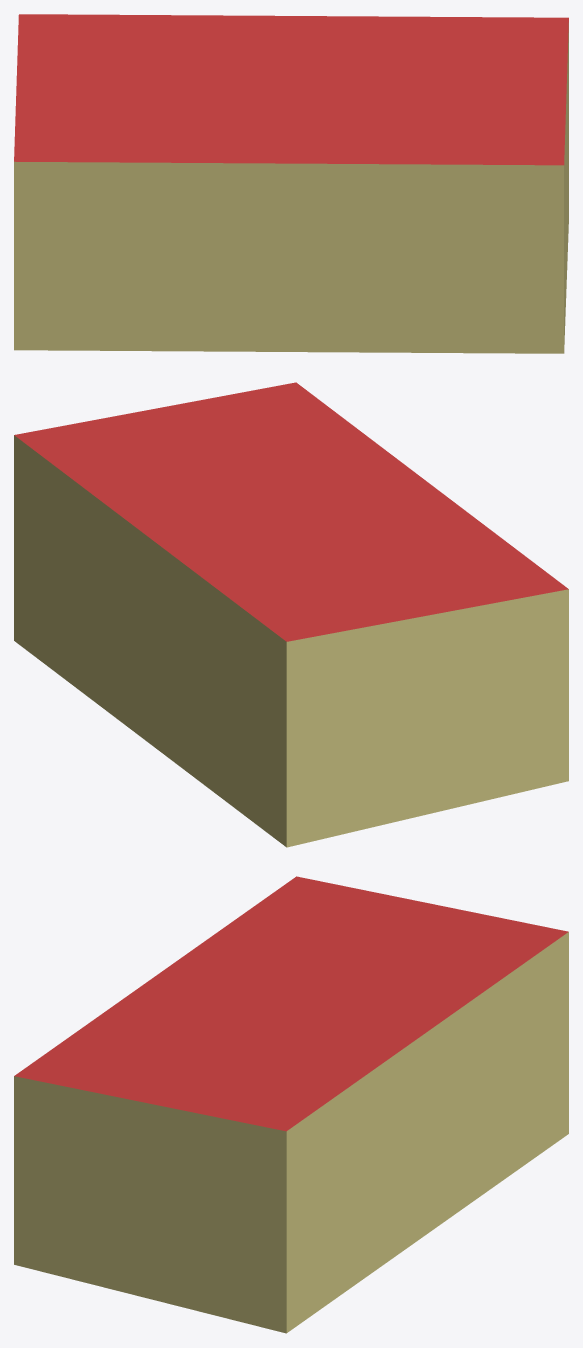
3 views of the same model, one above another, from view 1: azimuth 30°, elevation 25°; view 2: azimuth 150°, elevation 25°; view 3: azimuth 270°, elevation 25° (orthographic).
Parts seen in each view (by area): view 1: group_4, group_3; view 2: group_4, group_3; view 3: group_4, group_3.
Boxes of the visible parts, x1=… form: group_4: x1=14, y1=23, x2=568, y2=353; group_3: x1=14, y1=14, x2=568, y2=165; group_4: x1=14, y1=435, x2=568, y2=847; group_3: x1=14, y1=382, x2=568, y2=641; group_4: x1=14, y1=932, x2=568, y2=1333; group_3: x1=14, y1=876, x2=568, y2=1131.
Size of the model in its own units: 20.13 by 17.58 by 7.06.
